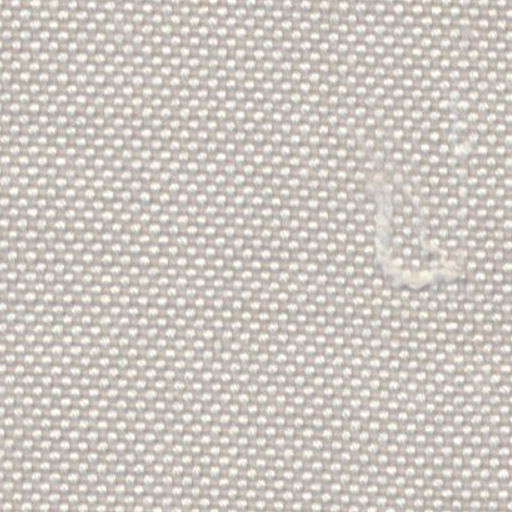DuanSha: (348, 147, 472, 295)
